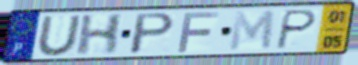F: (175, 11, 222, 54)
H: (73, 12, 127, 57)
M: (228, 8, 277, 52)
P: (126, 11, 178, 56), (273, 9, 320, 52)
U: (35, 14, 83, 58)
